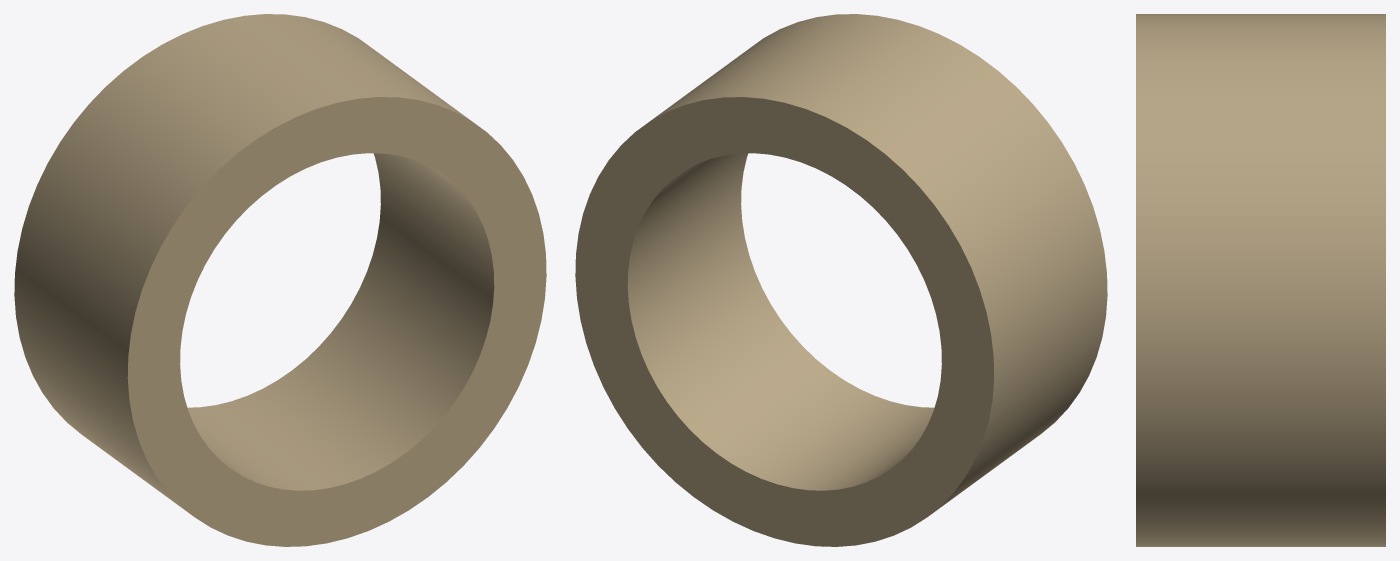
Rendered from step_09.glb.
3 renders of one model, left to right at view 1: azimuth 30°, elevation 25°; view 2: azimuth 150°, elevation 25°; view 3: azimuth 270°, elevation 25°, orthographic. The views are drawn at different scales.
Parts seen in each view (by area): view 1: part__main bush 1; view 2: part__main bush 1; view 3: part__main bush 1.
Part boxes in pixels (x1,y1,x2,y2): part__main bush 1: (14,14,546,546); part__main bush 1: (575,14,1107,546); part__main bush 1: (1136,14,1385,546).
Size of the model in its own units: 31.99 by 31.98 by 15.
